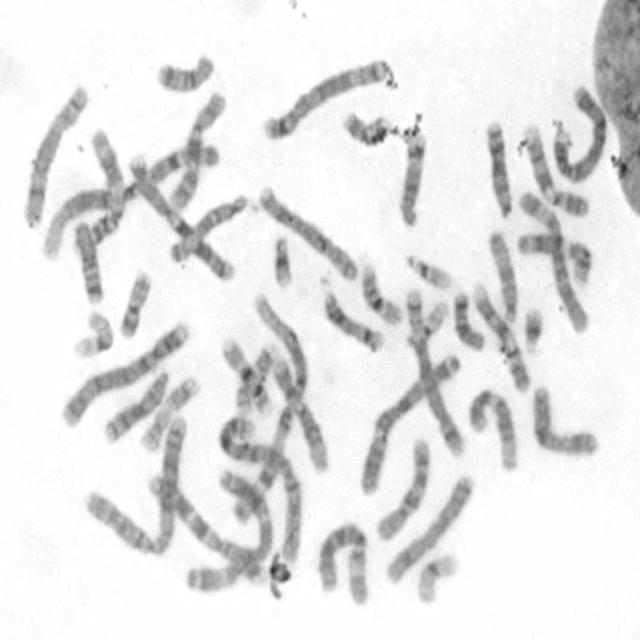A1: (38, 141, 222, 262), (230, 294, 309, 524)
A2: (82, 416, 192, 559), (217, 411, 303, 565)
A3: (357, 352, 462, 496), (182, 466, 276, 595)
B4: (59, 320, 189, 429), (551, 84, 606, 188)
B5: (405, 287, 467, 458), (262, 59, 388, 141)
C10: (168, 92, 230, 212), (374, 436, 432, 544)
C11: (86, 128, 127, 248), (515, 230, 593, 290)
C12: (271, 360, 330, 474), (468, 389, 518, 473)
C6: (519, 189, 590, 336), (315, 520, 371, 609)
C7: (128, 154, 236, 282), (147, 472, 266, 587)
C8: (256, 183, 358, 282), (22, 82, 88, 231)
C9: (471, 282, 532, 396), (522, 120, 590, 217)
D13: (100, 368, 170, 447), (486, 116, 515, 220)
D14: (319, 276, 385, 353), (397, 135, 428, 230)
D15: (167, 192, 250, 262), (486, 229, 518, 325)
E16: (220, 335, 274, 418), (361, 262, 404, 328)
E17: (139, 375, 201, 454), (234, 343, 274, 440)
E18: (73, 217, 105, 305), (156, 53, 215, 94), (454, 292, 486, 354)
F19: (416, 553, 460, 608), (73, 312, 115, 359)
F20: (120, 268, 152, 339), (344, 109, 390, 148)
G21: (271, 232, 295, 292), (521, 308, 545, 357)
G22: (406, 299, 451, 348), (402, 252, 452, 290)
X: (384, 473, 476, 586), (533, 385, 598, 460)
